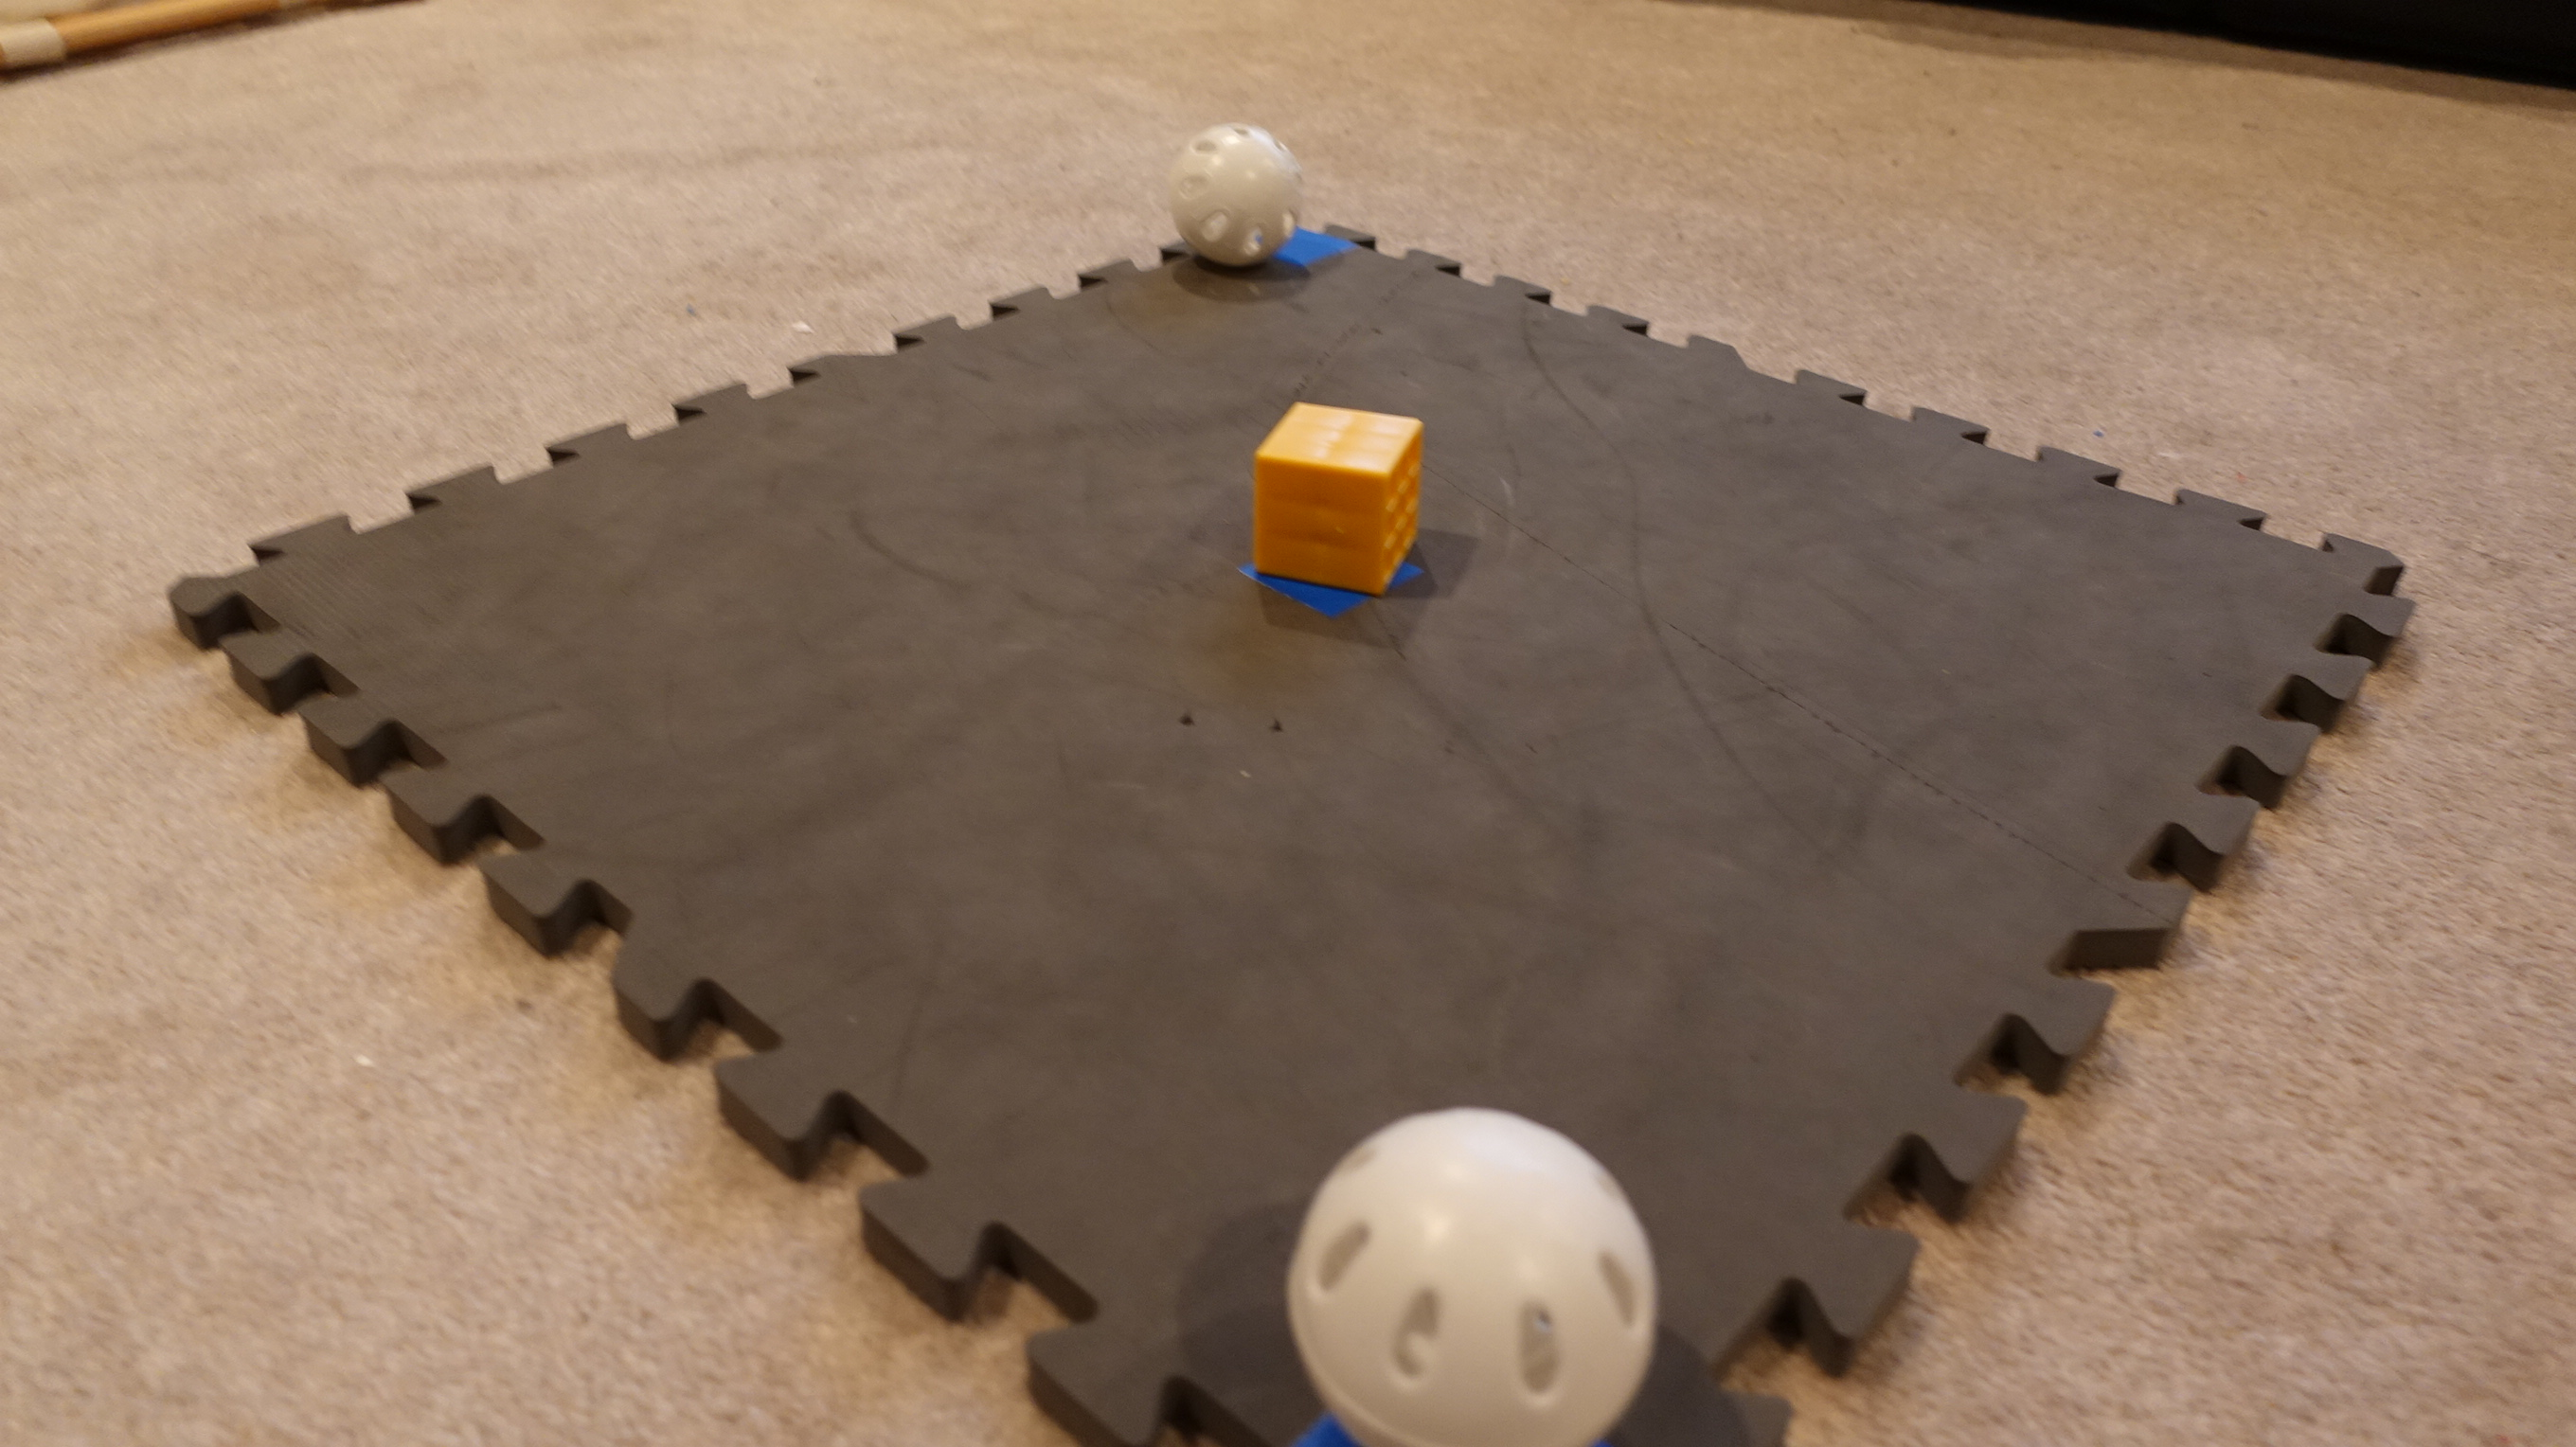gold: (1240, 386, 1442, 609)
silver: (1283, 1090, 1668, 1447), (1169, 126, 1309, 265)
